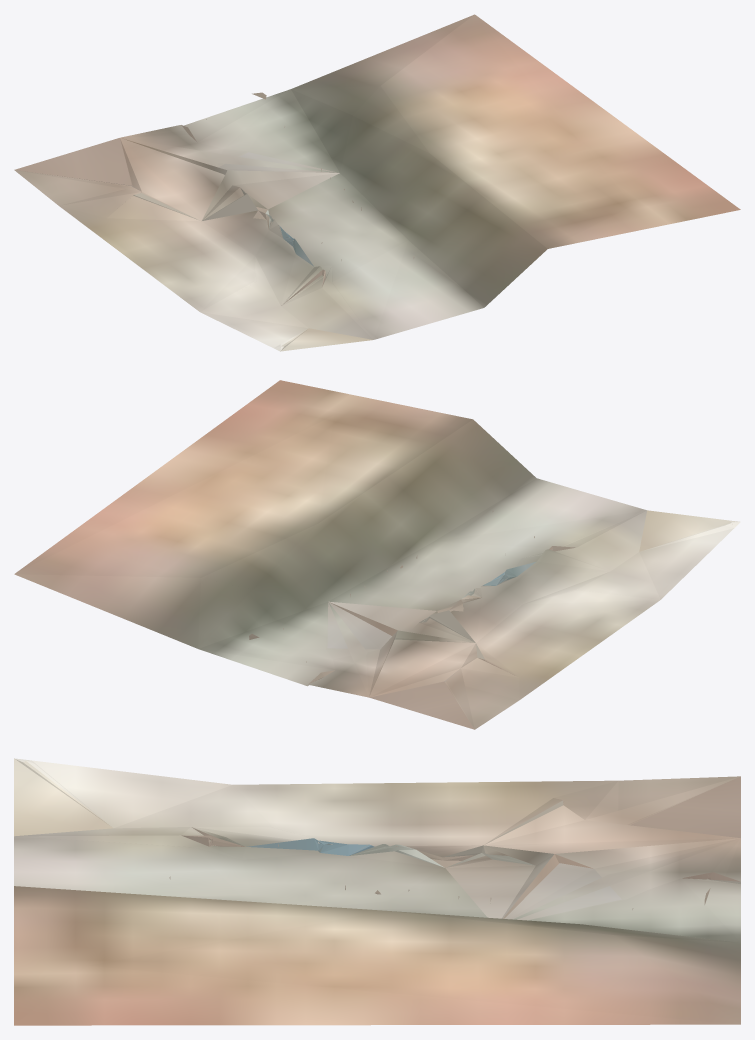
File: Tile__005__007.glb
3 views of the same model, one above another, from view 1: azimuth 30°, elevation 25°; view 2: azimuth 150°, elevation 25°; view 3: azimuth 270°, elevation 25° (orthographic). The views are drawn at different scales.
Parts seen in each view (by area): view 1: root; view 2: root; view 3: root.
Part boxes in pixels (x1,y1,x2,y2): root: [14, 14, 740, 351]; root: [14, 380, 740, 729]; root: [14, 758, 740, 1025].
Bounding box in the file's own units: 101 × 11.85 × 101.
Materials: 1 (1 with a texture image).
